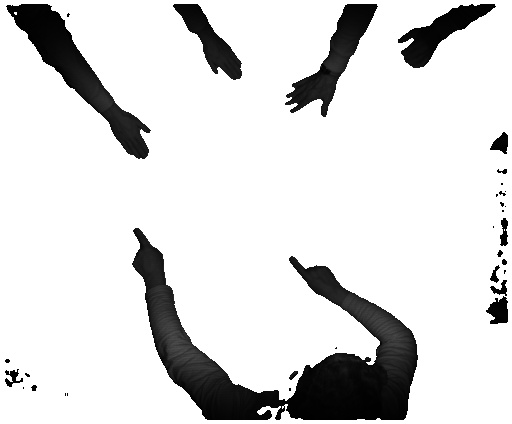hand: (281, 75, 339, 119), (128, 225, 172, 281), (288, 256, 342, 300), (392, 27, 441, 71), (109, 111, 151, 159), (204, 35, 247, 79)
